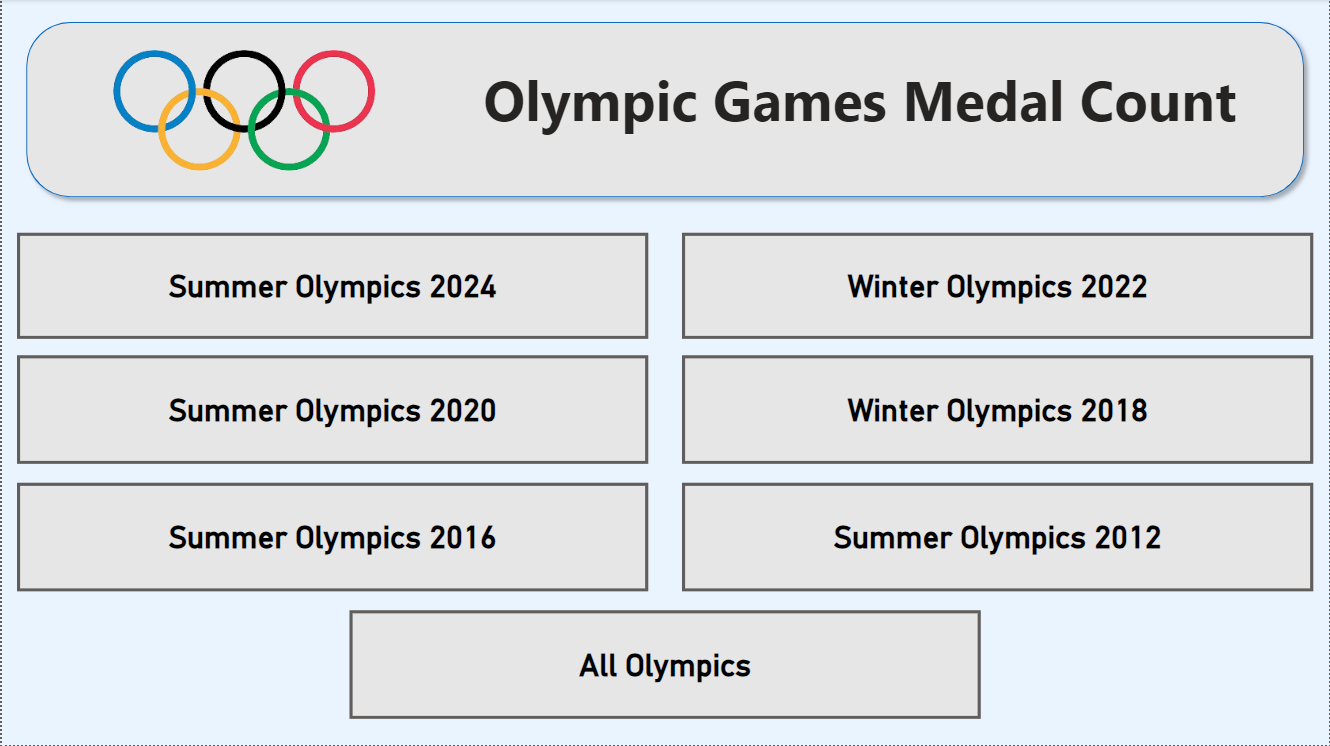

Layout of this report page (visuals, bound fields, positions):
{"tool":"powerbi","page":{"name":"Front Page","canvas":[1280,720],"ordinal":0},"visuals":[{"type":"shape","box":[14.5,13.3,1251.1,187],"z":0},{"type":"textbox","box":[459.7,55.5,774.5,80.8],"z":1000},{"type":"image","box":[36.2,44.6,394.5,125.5],"z":2000},{"type":"actionButton","title":"Summer ","box":[14.5,225.6,609.3,102.5],"z":3000},{"type":"actionButton","title":"Summer ","box":[656.3,225.6,609.3,102.5],"z":4000},{"type":"actionButton","title":"Summer ","box":[14.5,343.8,609.3,105],"z":5000},{"type":"actionButton","title":"Summer ","box":[14.5,466.9,609.3,105],"z":6000},{"type":"actionButton","title":"Summer ","box":[656.3,343.8,609.3,105],"z":7000},{"type":"actionButton","title":"Summer ","box":[656.3,466.9,609.3,105],"z":8000},{"type":"actionButton","title":"Summer ","box":[335.4,589.9,609.3,105],"z":9000}]}

Visuals, with their boxes in screenshot pixels (x1, y1, x2, y2), scaled from the page's 1280x720 canvas onto the 1330x746 screenshot:
shape: (left=15, top=14, right=1315, bottom=208)
textbox: (left=478, top=58, right=1282, bottom=141)
image: (left=38, top=46, right=448, bottom=176)
"Summer " actionButton: (left=15, top=234, right=648, bottom=340)
"Summer " actionButton: (left=682, top=234, right=1315, bottom=340)
"Summer " actionButton: (left=15, top=356, right=648, bottom=465)
"Summer " actionButton: (left=15, top=484, right=648, bottom=593)
"Summer " actionButton: (left=682, top=356, right=1315, bottom=465)
"Summer " actionButton: (left=682, top=484, right=1315, bottom=593)
"Summer " actionButton: (left=349, top=611, right=982, bottom=720)
